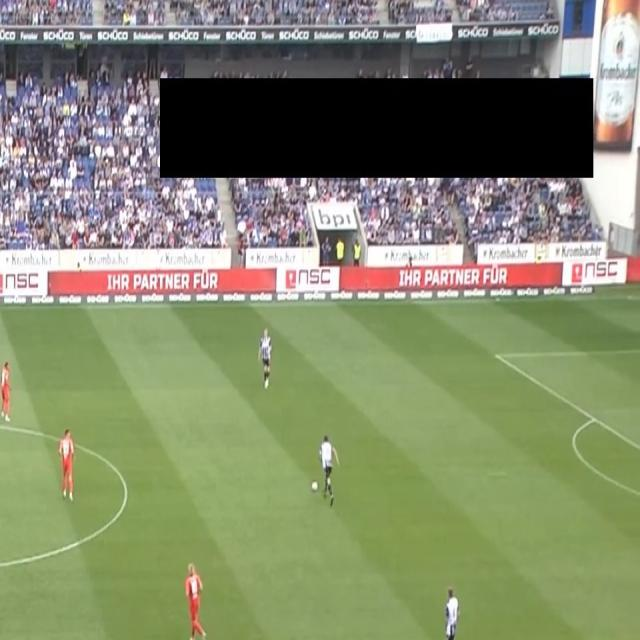ball: (311, 478, 319, 492)
